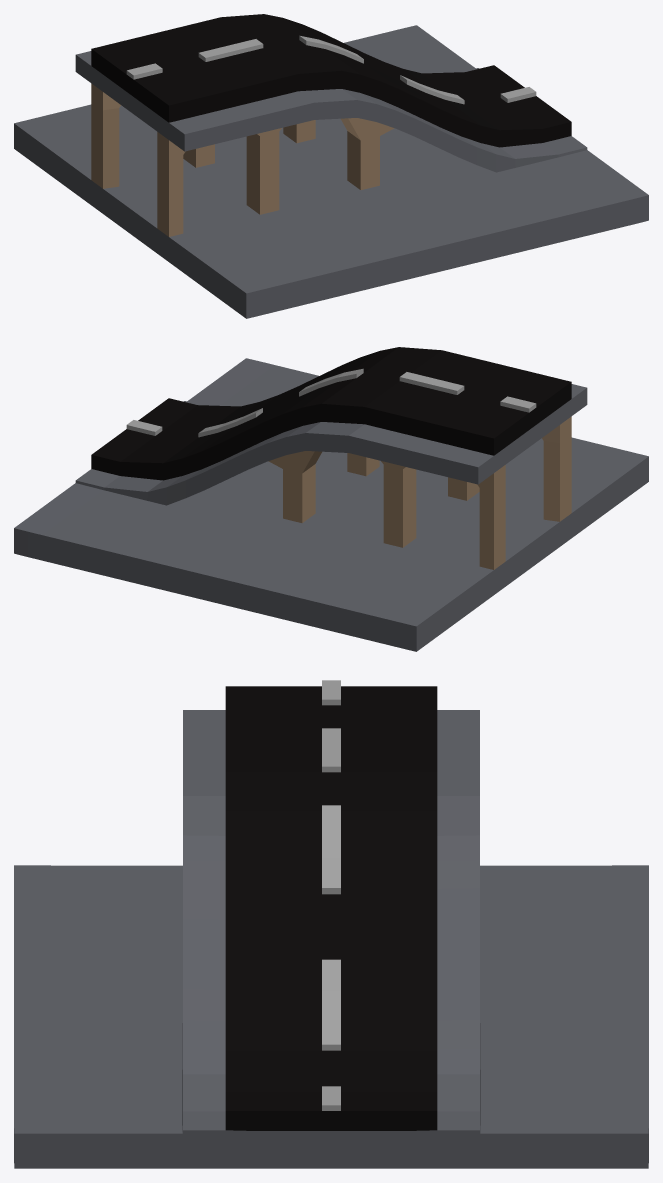
3 views of the same model, one above another, from view 1: azimuth 30°, elevation 25°; view 2: azimuth 150°, elevation 25°; view 3: azimuth 270°, elevation 25° (orthographic). The views are drawn at different scales.
Visible parts, largest first — view 1: Street_Bridge_Ramp_Cube.035; view 2: Street_Bridge_Ramp_Cube.035; view 3: Street_Bridge_Ramp_Cube.035.
Boxes of the visible parts, x1,y1,x2,y2 form: Street_Bridge_Ramp_Cube.035: (14, 14, 648, 318); Street_Bridge_Ramp_Cube.035: (14, 347, 648, 651); Street_Bridge_Ramp_Cube.035: (14, 680, 648, 1168).
Bounding box in the file's own units: 2 × 0.7638 × 2.
